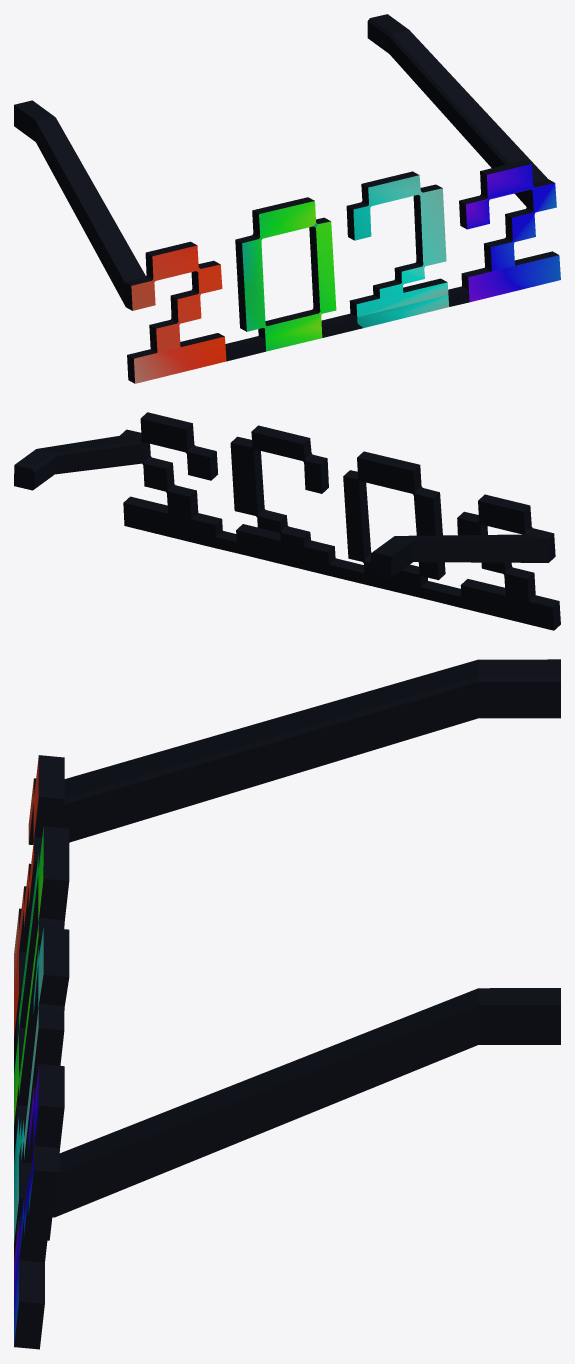
Rendered from 2022glasses.fbx.
3 renders of one model, top to bottom at view 1: azimuth 30°, elevation 25°; view 2: azimuth 150°, elevation 25°; view 3: azimuth 270°, elevation 25°, orthographic. The views are drawn at different scales.
Parts seen in each view (by area): view 1: _2022glasses; view 2: _2022glasses; view 3: _2022glasses.
Boxes of the visible parts, x1,y1,x2,y2 form: _2022glasses: (14, 14, 560, 383); _2022glasses: (14, 412, 560, 630); _2022glasses: (14, 659, 560, 1349).
Bounding box in the file's own units: 30.09 × 11.4 × 17.7.
